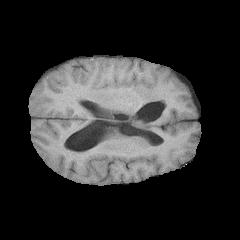glioma: (128, 81, 165, 130)
